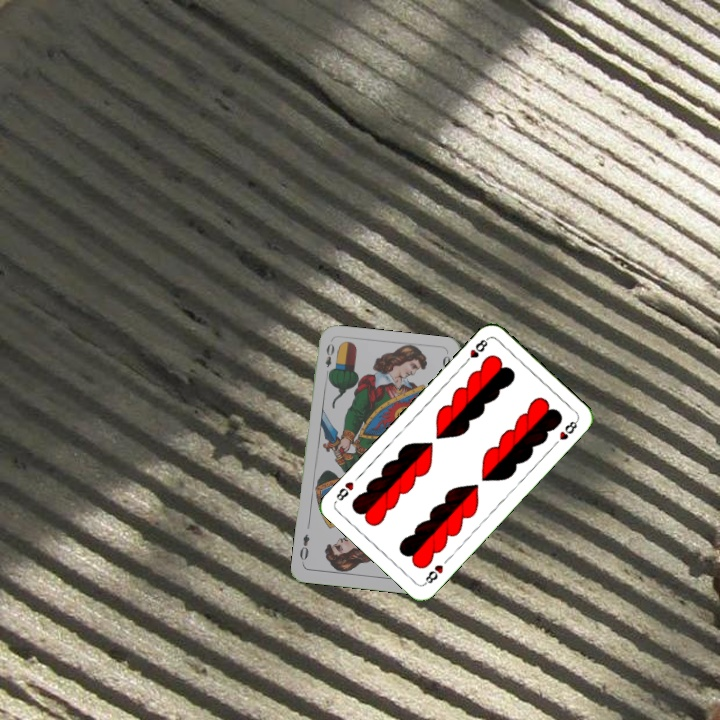EO: (321, 339, 337, 379)
H8: (460, 334, 491, 367), (420, 561, 446, 587)
